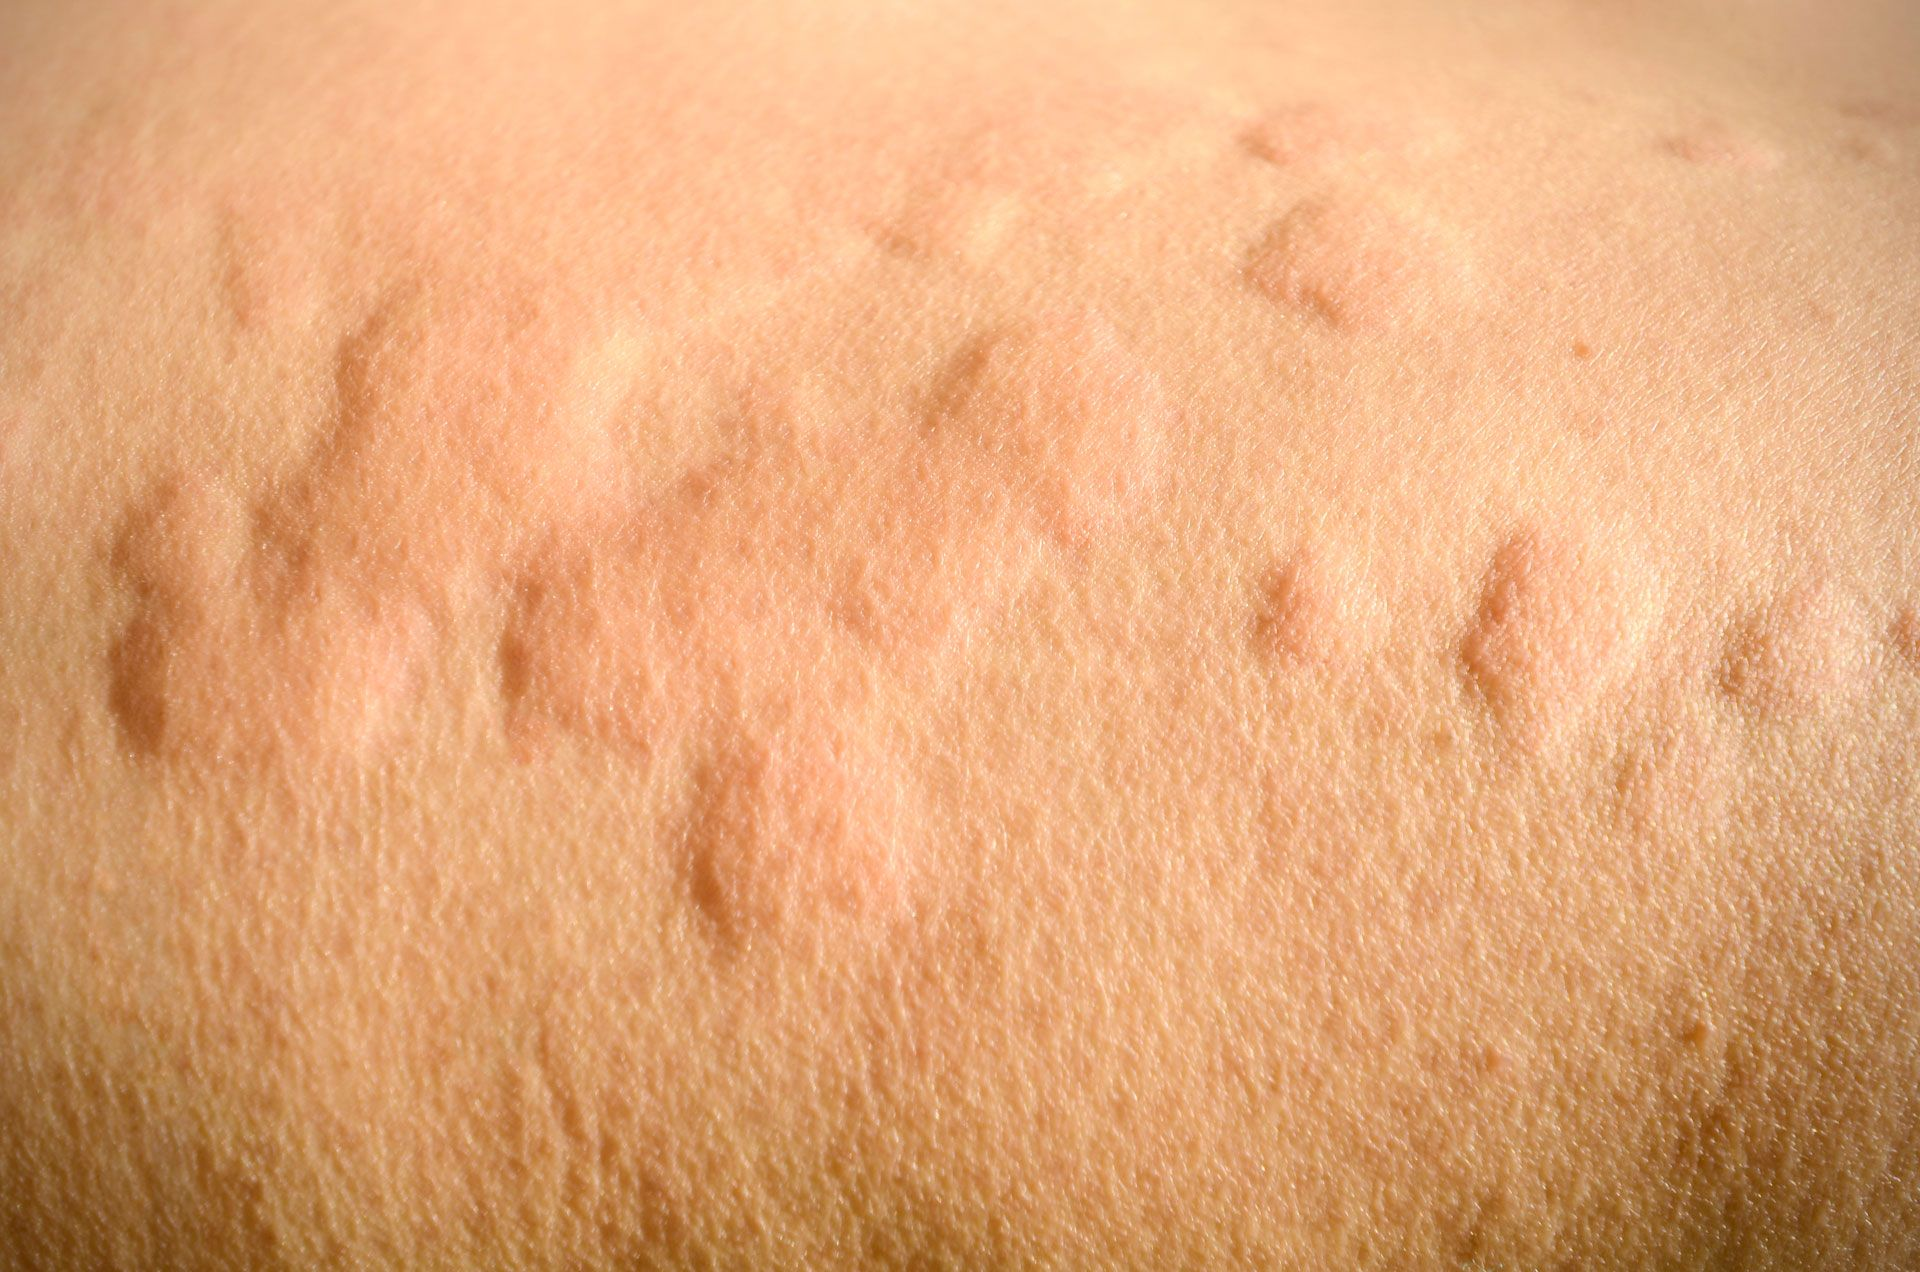Hives: (143, 264, 1070, 930), (1466, 534, 1893, 760)
